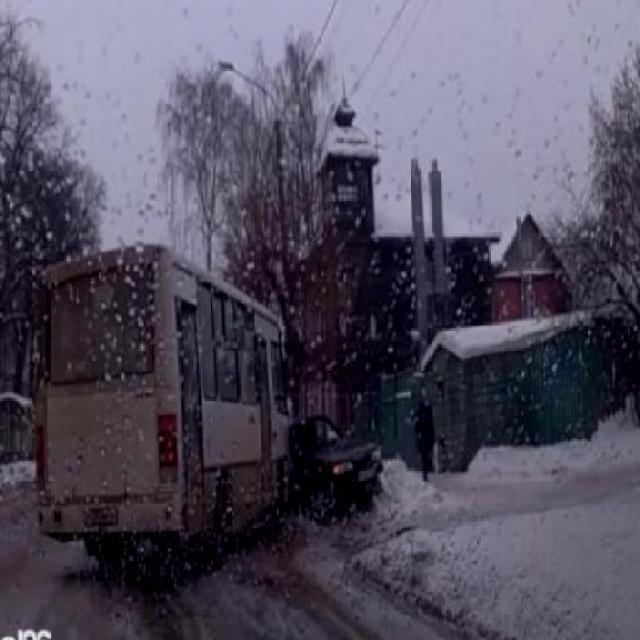accident: (28, 237, 384, 576)
